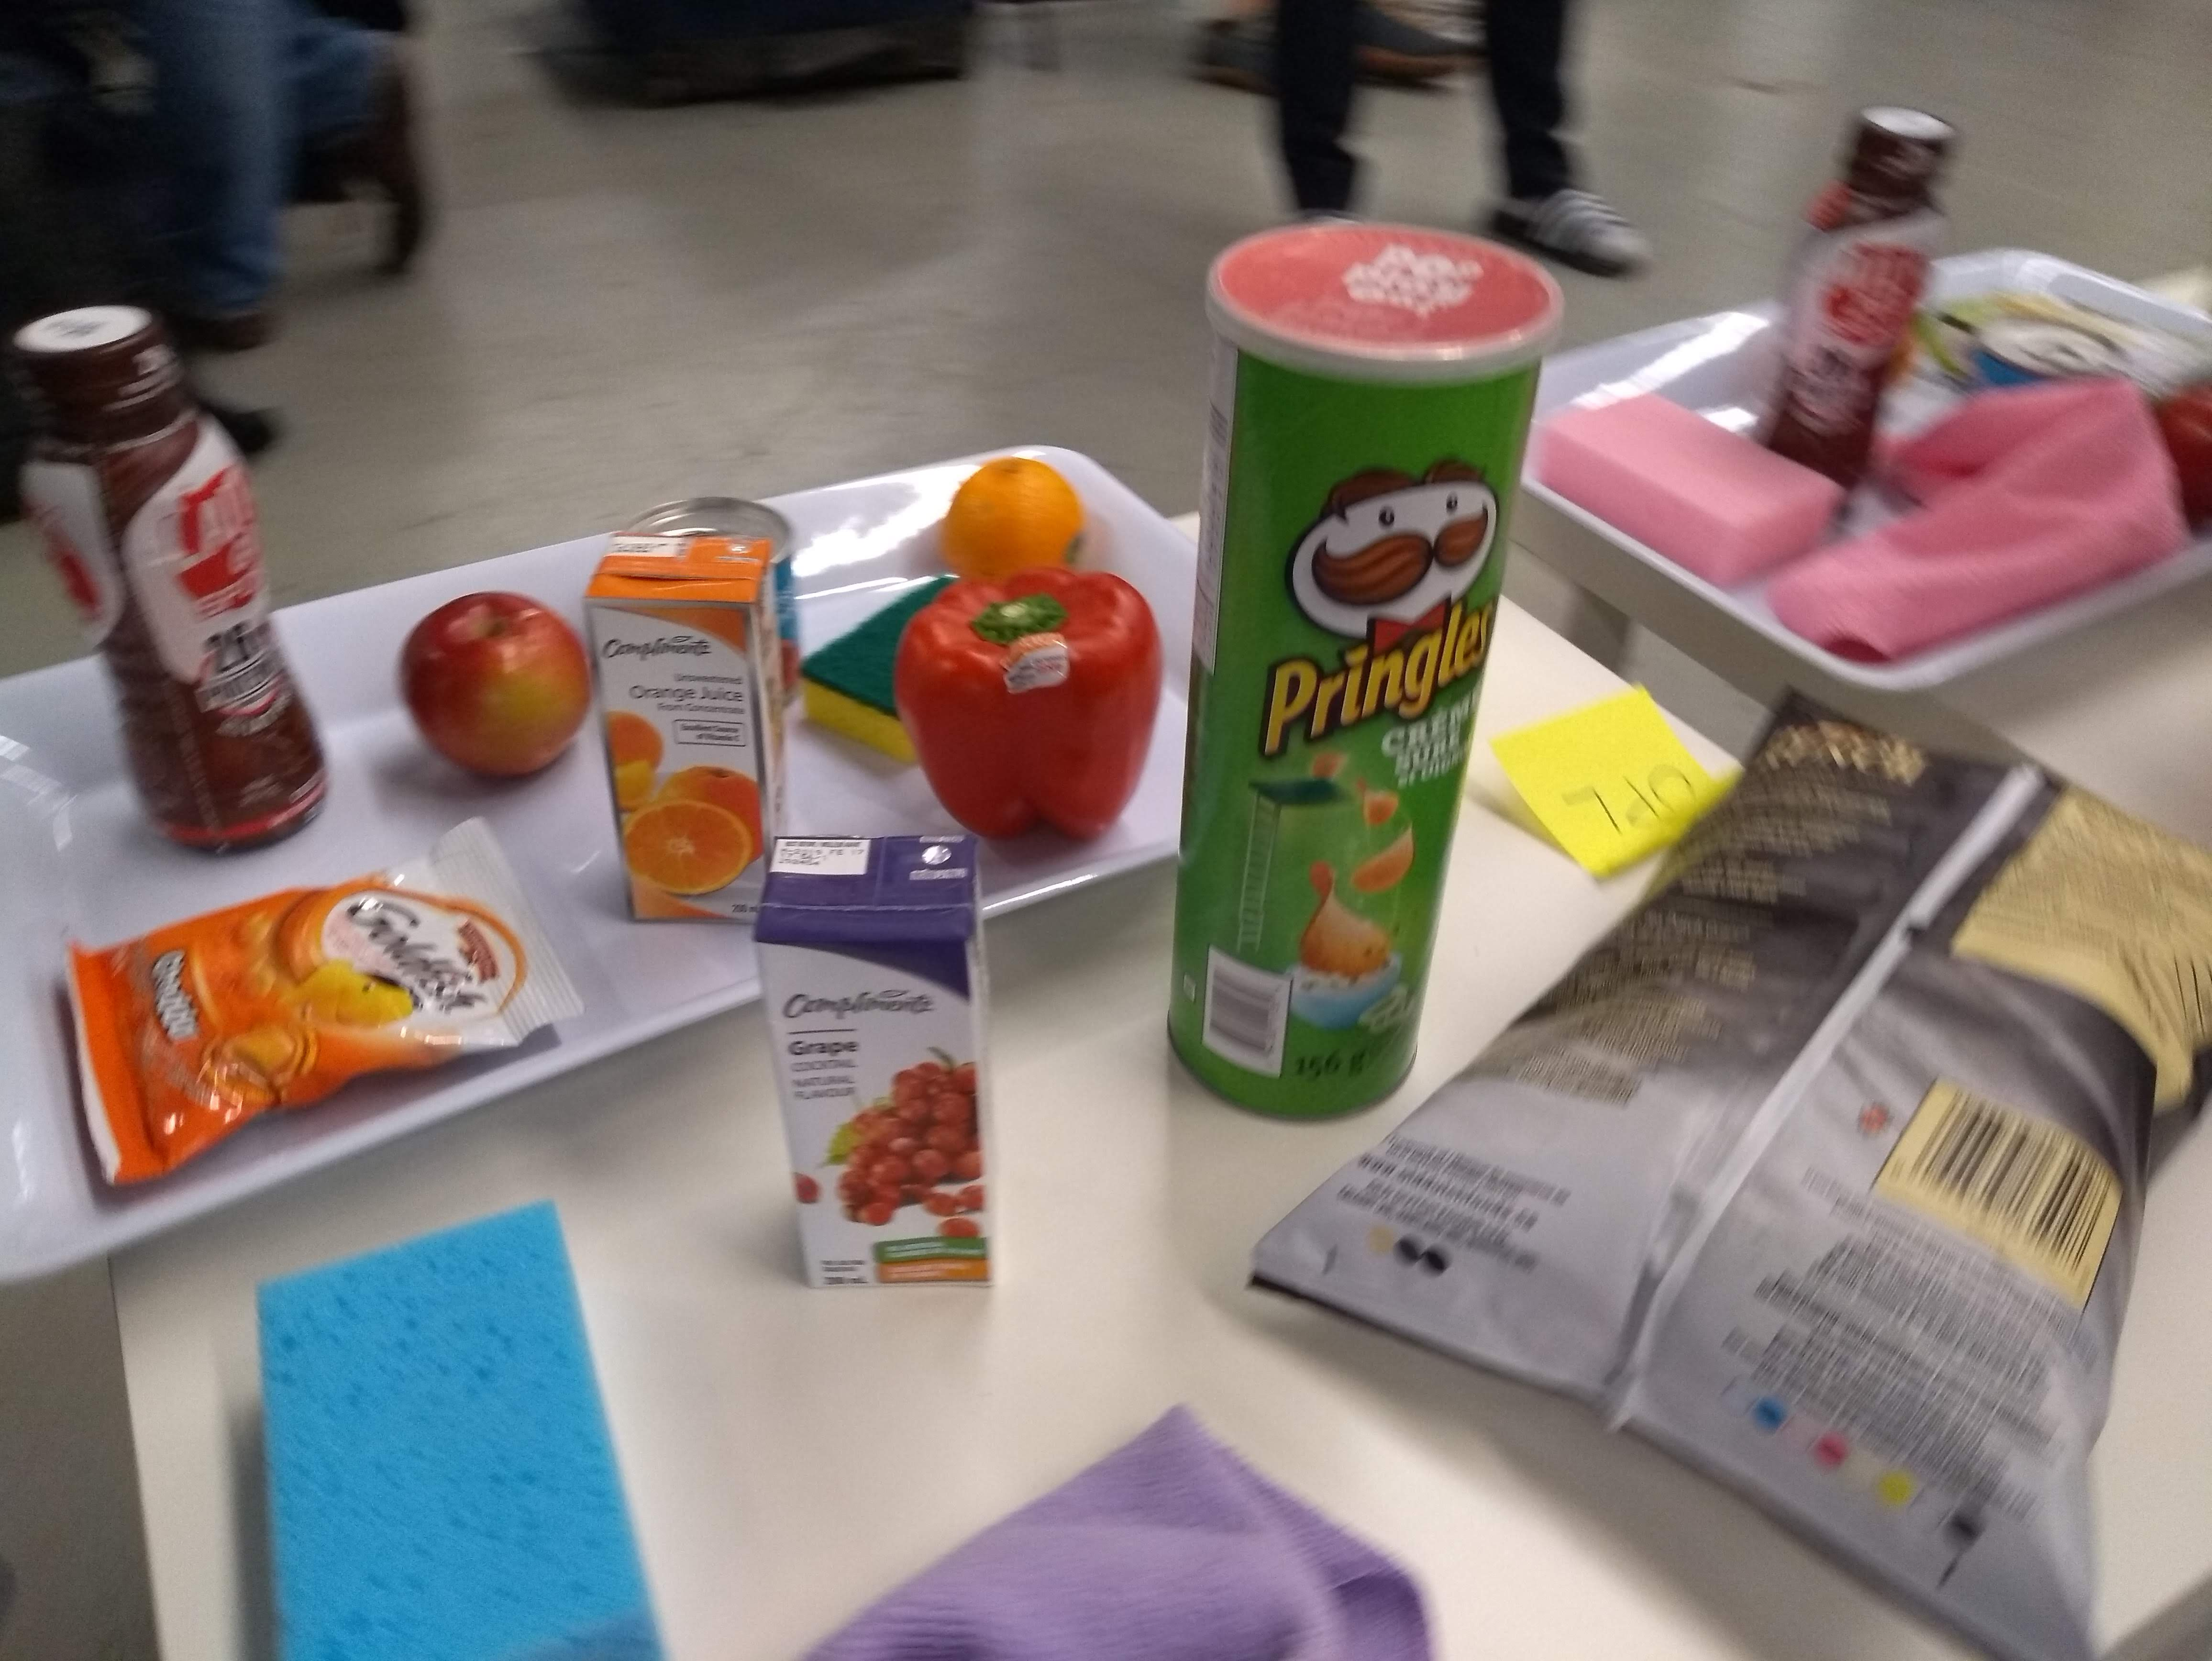apple: (391, 591, 590, 757)
chocolate_drink: (0, 286, 328, 860), (1757, 101, 1971, 502)
grape_juice: (748, 829, 1010, 1298)
orange: (939, 452, 1092, 581)
paprika: (893, 564, 1153, 850)
potato_chips: (1467, 703, 2212, 1638)
pringles: (1153, 213, 1563, 1122)
scrubby: (801, 576, 946, 771)
sponge_opl: (239, 1188, 668, 1658)
